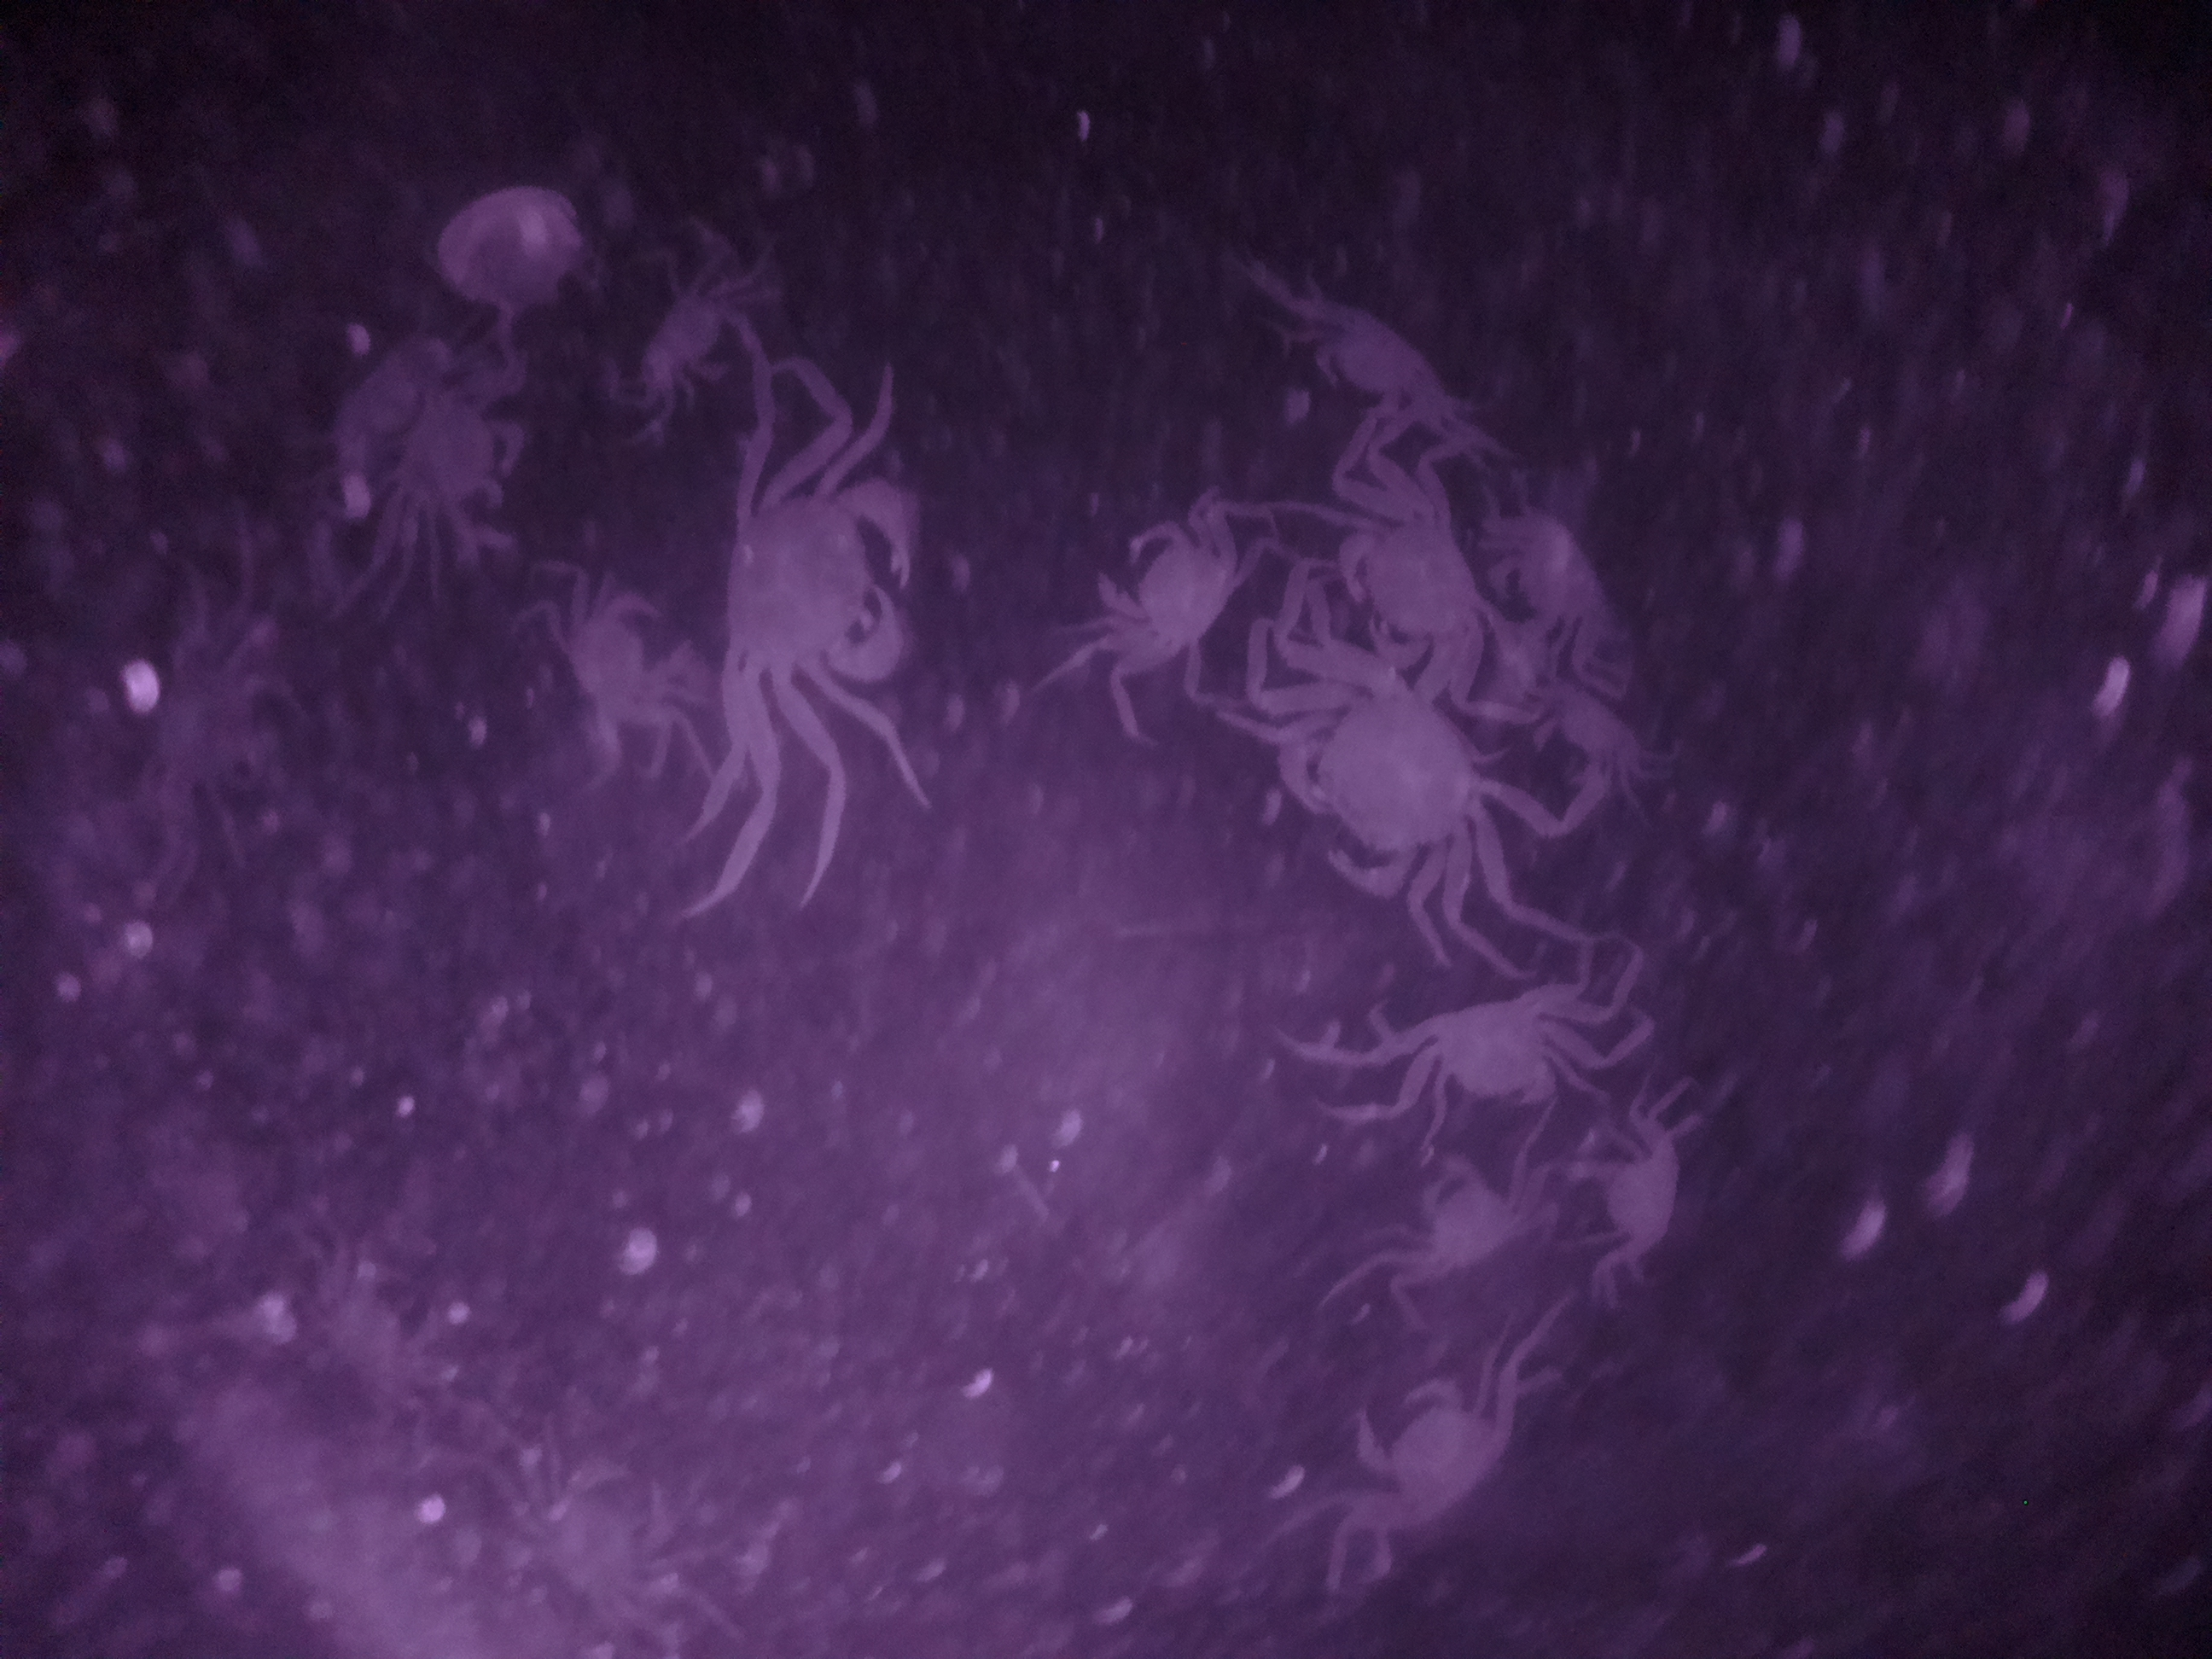Crab: (1258, 641, 1501, 918), (698, 453, 941, 701), (1334, 1356, 1534, 1567), (1318, 474, 1519, 676), (1085, 476, 1254, 702), (1372, 981, 1616, 1131)
